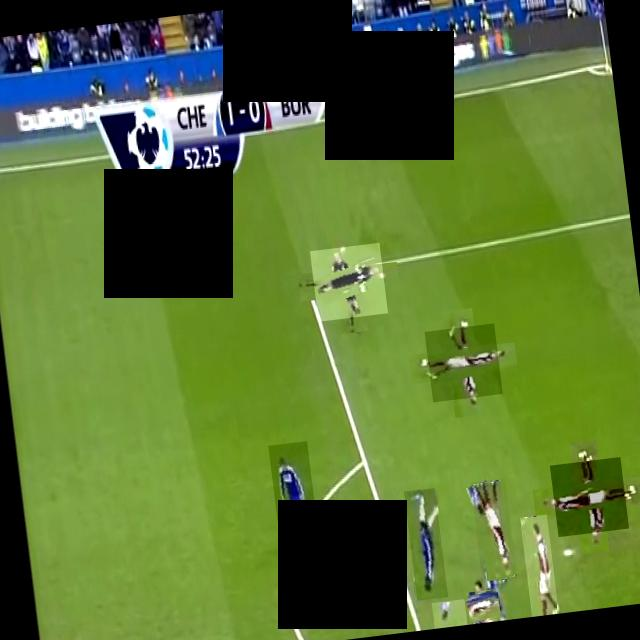referee: (310, 242, 388, 321)
soccer-player: (550, 456, 628, 536), (424, 323, 502, 402), (268, 440, 320, 556), (403, 488, 448, 600), (470, 478, 517, 582), (520, 514, 558, 616), (465, 588, 501, 624), (431, 598, 467, 628)
